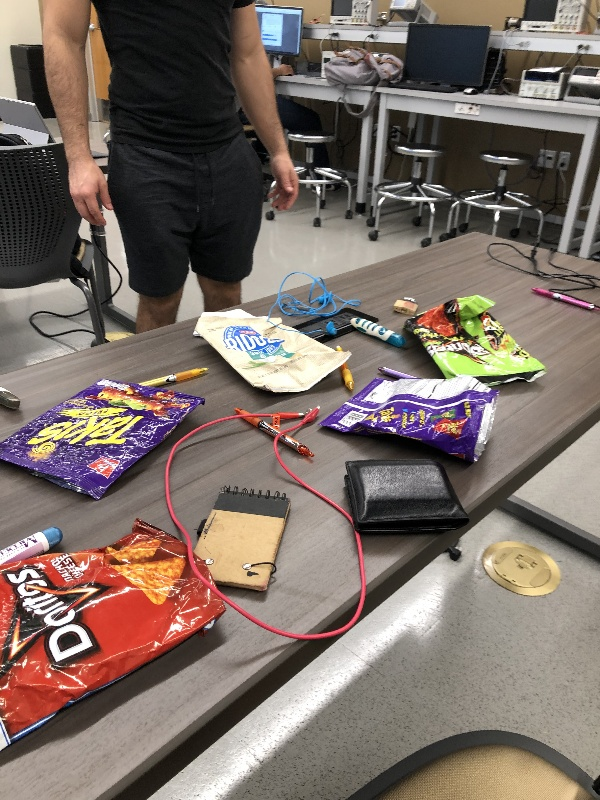bag: (1, 516, 231, 757), (1, 377, 208, 503), (314, 376, 502, 469), (185, 307, 356, 397), (397, 293, 552, 390)
